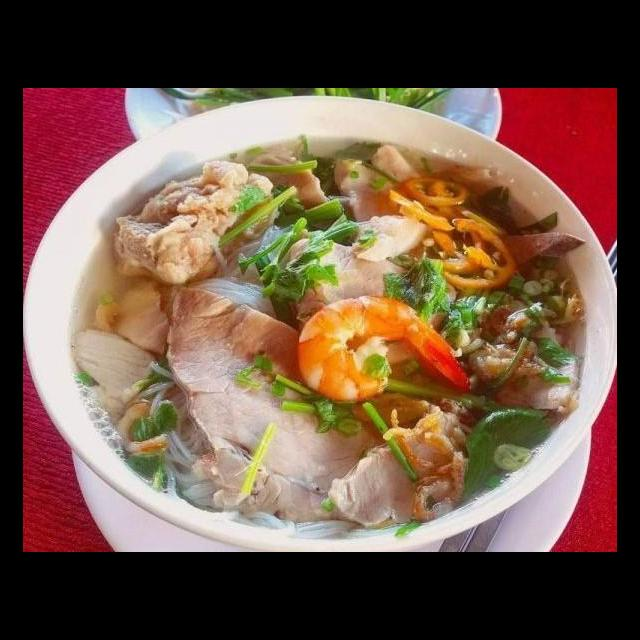gan: (476, 227, 591, 279)
hu tieu: (135, 363, 236, 532), (182, 218, 304, 323)
thit bam: (459, 296, 564, 389)
thit heo: (157, 276, 387, 530), (108, 156, 282, 289), (268, 234, 463, 346), (321, 394, 479, 532), (64, 321, 181, 446)
tom: (289, 289, 478, 409)
